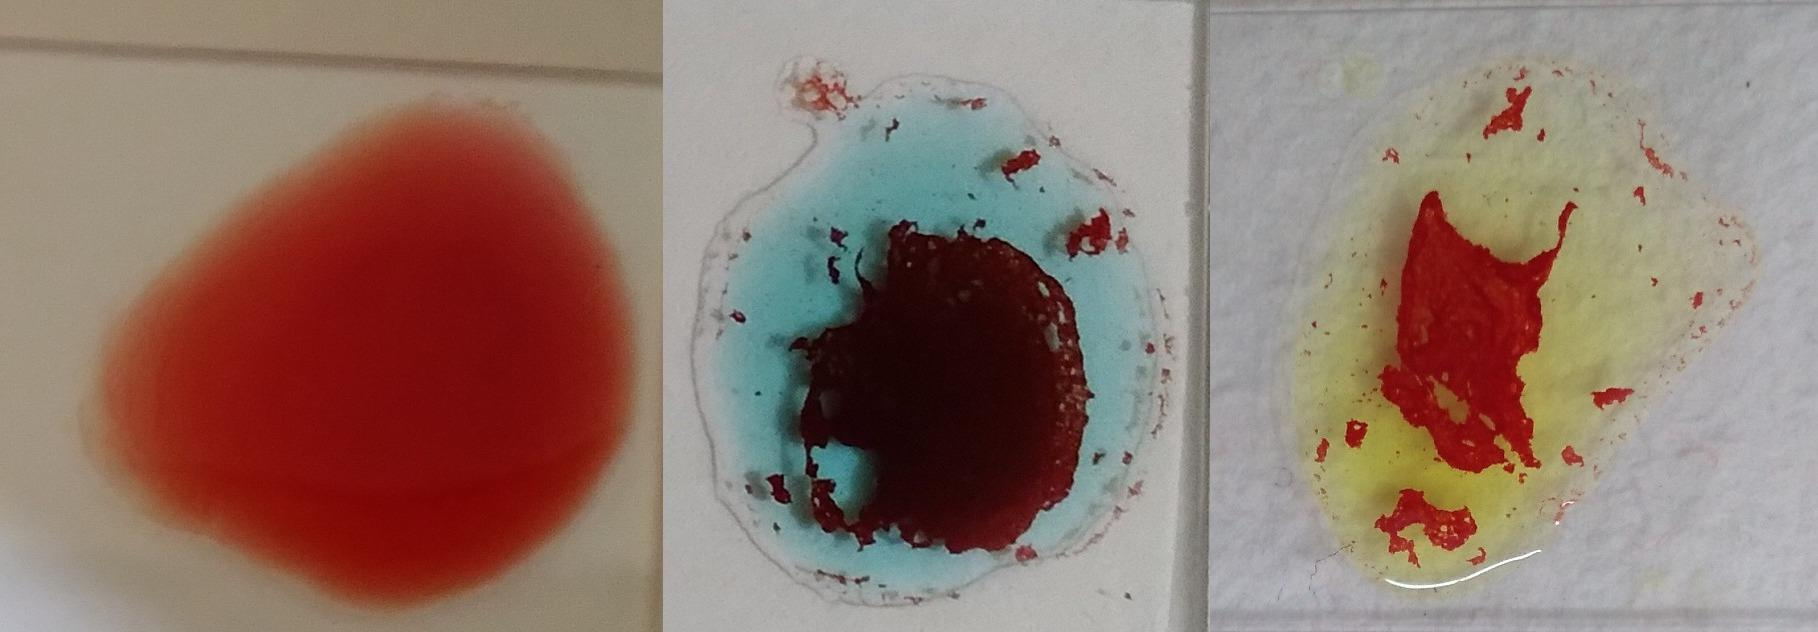A: (698, 80, 1148, 615)
B: (1315, 46, 1684, 587)
